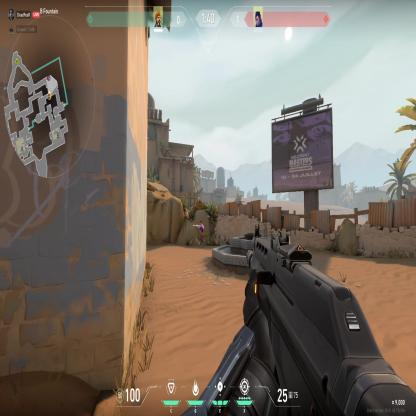enemy: (198, 219, 206, 249)
